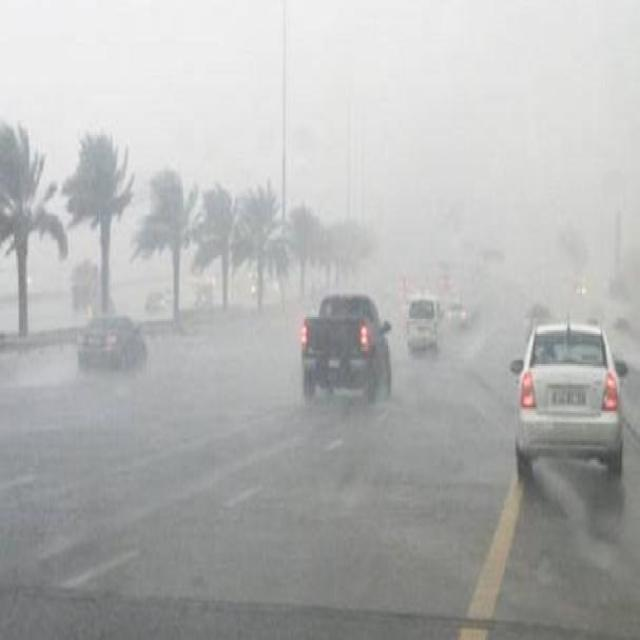Car: (506, 295, 628, 493), (298, 271, 395, 416), (76, 301, 148, 389), (190, 264, 220, 336), (139, 270, 169, 340), (445, 284, 473, 345)
Van: (401, 265, 442, 364)
